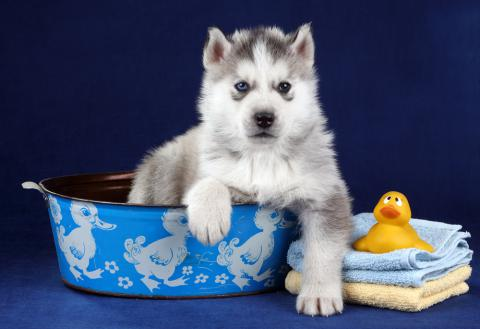husky: (131, 18, 357, 317)
